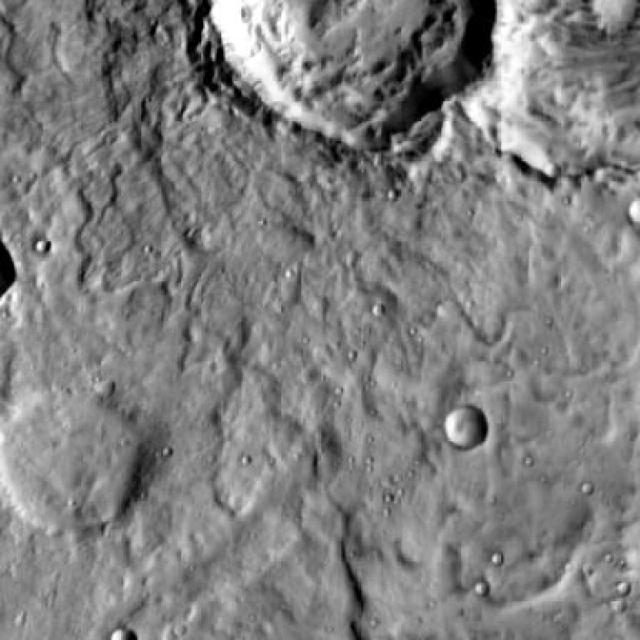crater: (205, 0, 493, 168), (432, 0, 639, 178), (0, 382, 148, 533), (444, 404, 485, 445), (107, 624, 133, 640), (474, 582, 492, 600), (34, 237, 51, 254)
